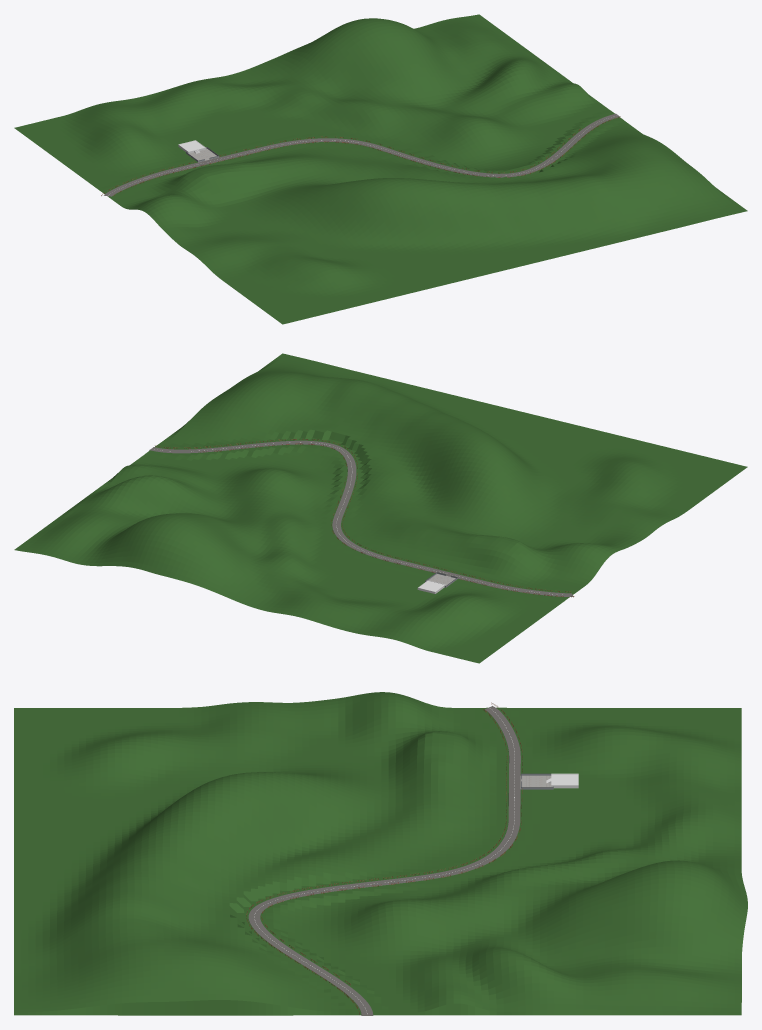
The model's file is Terrain.fbx.
The picture shows the model from 3 angles, top to bottom: view 1: azimuth 30°, elevation 25°; view 2: azimuth 150°, elevation 25°; view 3: azimuth 270°, elevation 25°; orthographic projection. The views are drawn at different scales.
Parts seen in each view (by area): view 1: Terrain, Road; view 2: Terrain, Road; view 3: Terrain, Road, Terrain Fence.002.
Part boxes in pixels (x1,y1,x2,y2): Terrain: (14,14,747,324); Road: (104,114,618,196); Terrain: (14,353,747,663); Road: (150,440,573,596); Terrain: (14,692,747,1015); Road: (248,706,520,1014); Terrain Fence.002: (246,708,507,1014).
Size of the model in its own units: 40509 by 40343 by 3672.
